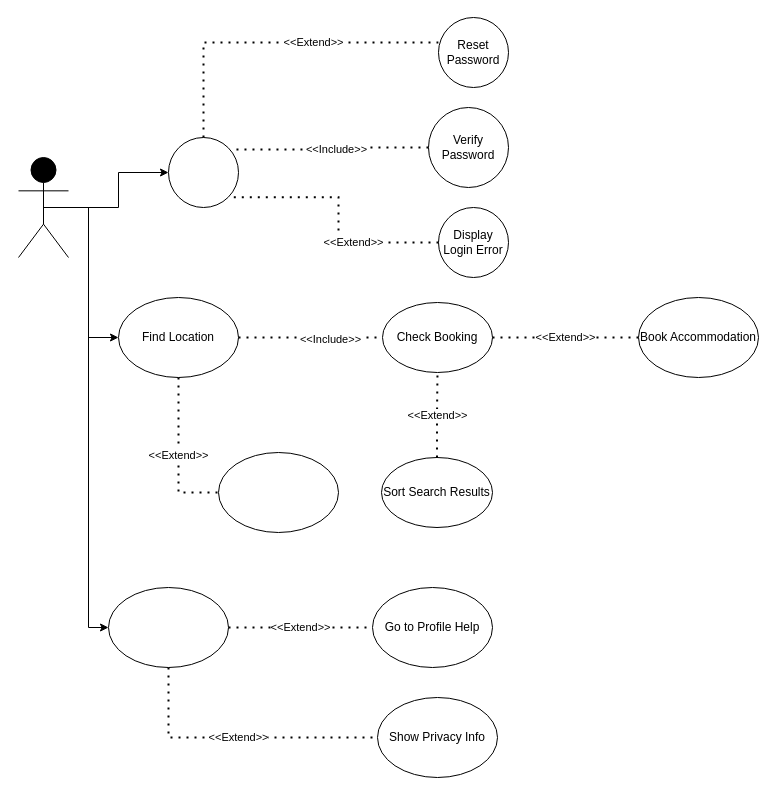
Image size: 776x795. Some labels were removed from this diagram. The shapes that lost their labels are listed below. From the top down, each one's centre as x and y in pixels, then its label:
At point 203,172: "Log In".
At point 43,207: "Customer".
At point 278,492: "Find Related Activities".
At point 168,627: "Set Up Profile Profile Help Privacy Help".
